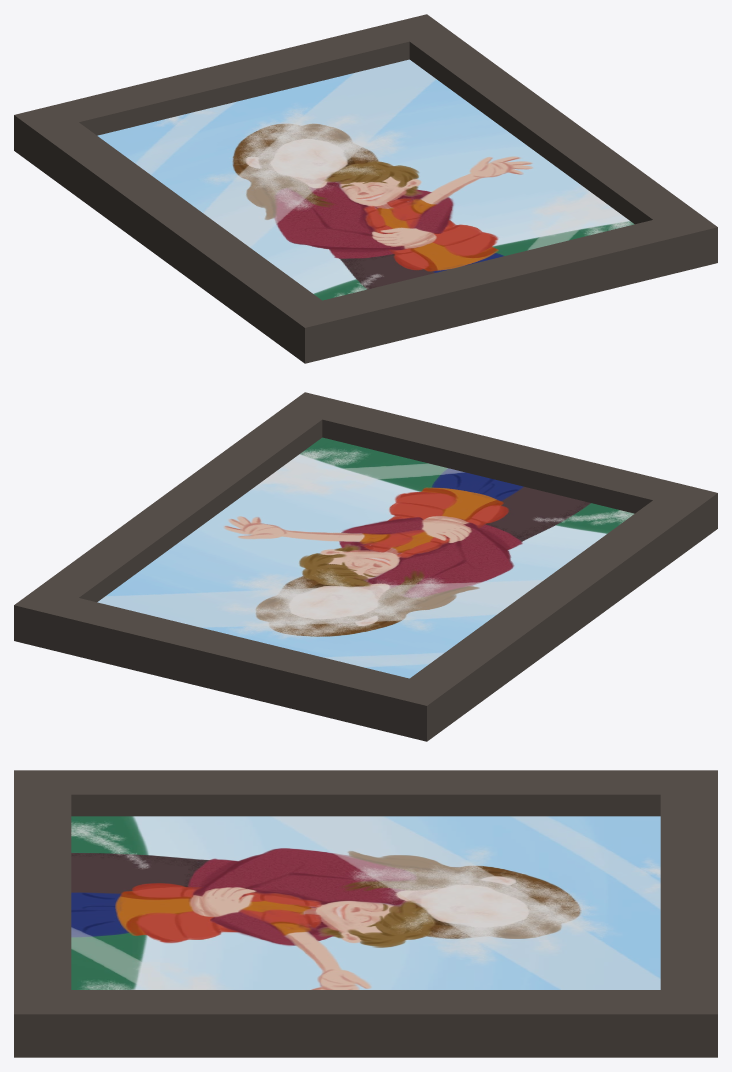
Rendered from Portrait.fbx.
3 views of the same model, one above another, from view 1: azimuth 30°, elevation 25°; view 2: azimuth 150°, elevation 25°; view 3: azimuth 270°, elevation 25° (orthographic). The views are drawn at different scales.
Visible parts, largest first — view 1: pCube1, pPlane1; view 2: pCube1, pPlane1; view 3: pPlane1, pCube1.
Part boxes in pixels (bbox=[...]): pCube1: bbox=[14, 14, 717, 363]; pPlane1: bbox=[97, 59, 634, 300]; pCube1: bbox=[14, 392, 717, 741]; pPlane1: bbox=[97, 437, 634, 678]; pPlane1: bbox=[71, 816, 660, 989]; pCube1: bbox=[14, 770, 717, 1057].
Bounding box in the file's own units: 16.09 × 1.33 × 19.63.
